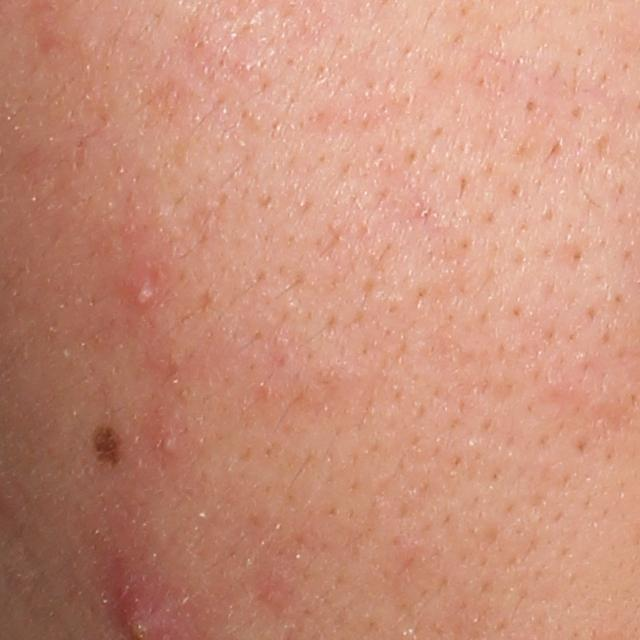nevus: (86, 421, 125, 469)
pustule: (109, 254, 167, 313)
